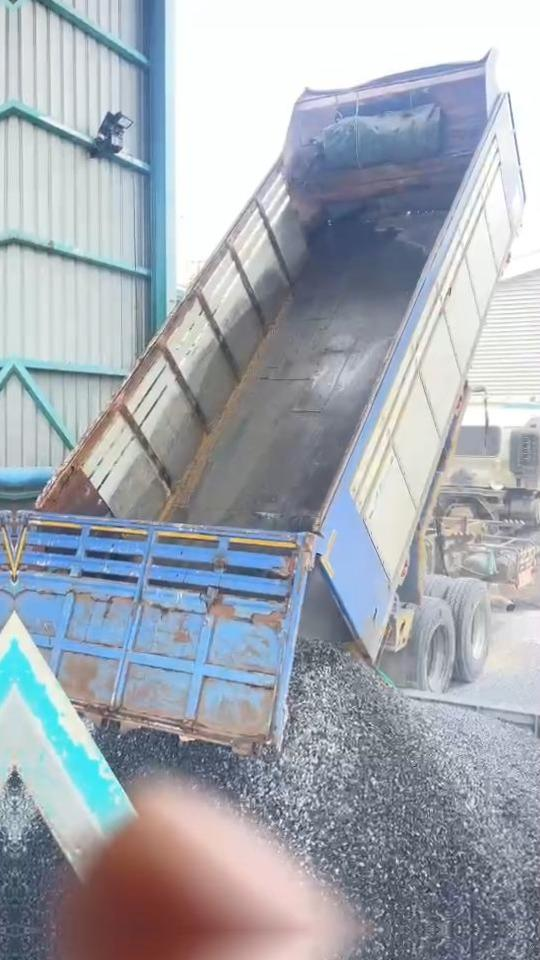gravel: (97, 643, 540, 929), (14, 808, 63, 928)
